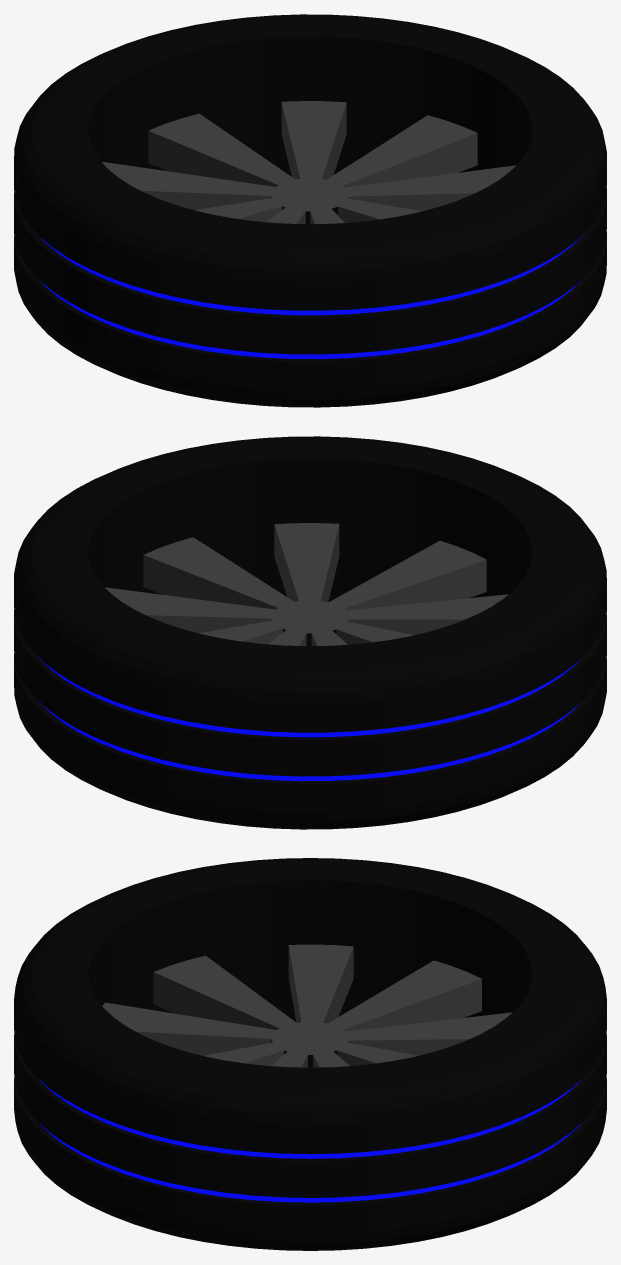
The model's file is cyberTireBody.glb.
The picture shows the model from 3 angles, top to bottom: view 1: azimuth 30°, elevation 25°; view 2: azimuth 150°, elevation 25°; view 3: azimuth 270°, elevation 25°; orthographic projection.
Visible parts, largest first — view 1: Cylinder.004; view 2: Cylinder.004; view 3: Cylinder.004.
Boxes of the visible parts, x1,y1,x2,y2 form: Cylinder.004: (14, 14, 606, 407); Cylinder.004: (14, 436, 606, 829); Cylinder.004: (14, 858, 606, 1250).
Bounding box in the file's own units: 1.05 × 0.3158 × 1.05.
